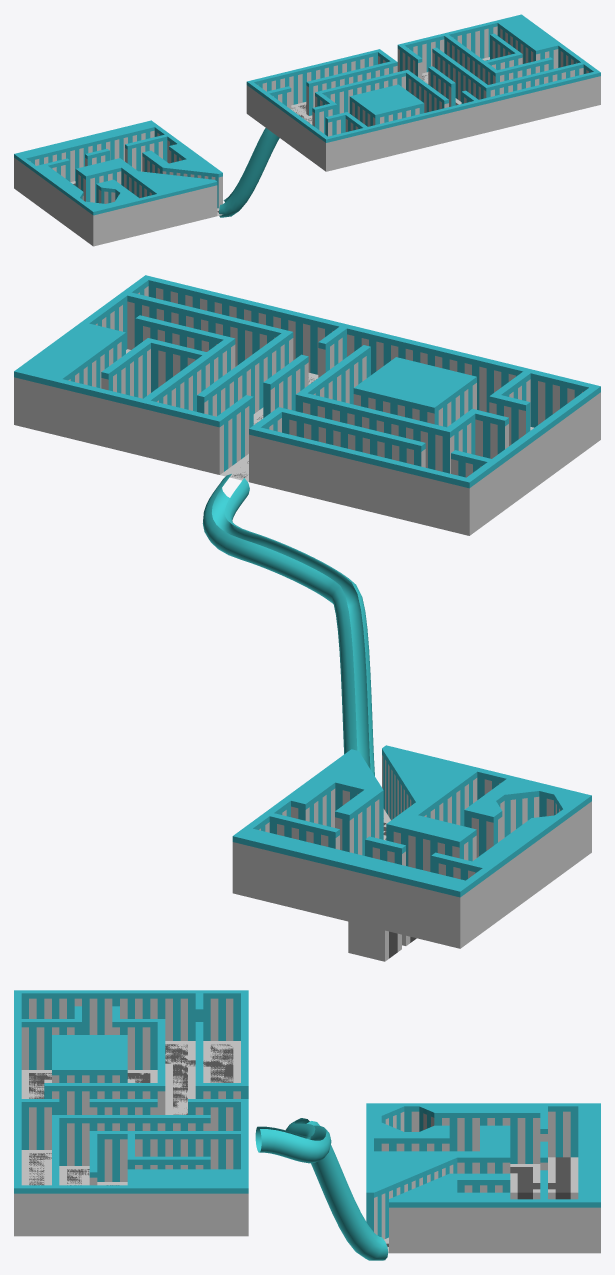
Rendered from saturnlvl3.fbx.
3 views of the same model, one above another, from view 1: azimuth 30°, elevation 25°; view 2: azimuth 150°, elevation 25°; view 3: azimuth 270°, elevation 25° (orthographic). The views are drawn at different scales.
Visible parts, largest first — view 1: Plane, Plane.001, BezierCurve; view 2: Plane, Plane.001, BezierCurve; view 3: Plane, Plane.001, BezierCurve.
Part boxes in pixels (x1,y1,x2,y2): Plane: [246, 14, 600, 171]; Plane.001: [14, 120, 222, 246]; BezierCurve: [219, 128, 279, 217]; Plane: [14, 275, 600, 535]; Plane.001: [232, 745, 591, 961]; BezierCurve: [202, 474, 374, 775]; Plane: [14, 990, 248, 1236]; Plane.001: [366, 1103, 600, 1253]; BezierCurve: [255, 1118, 388, 1260].
Size of the model in its own units: 10177 by 4827 by 9007.
